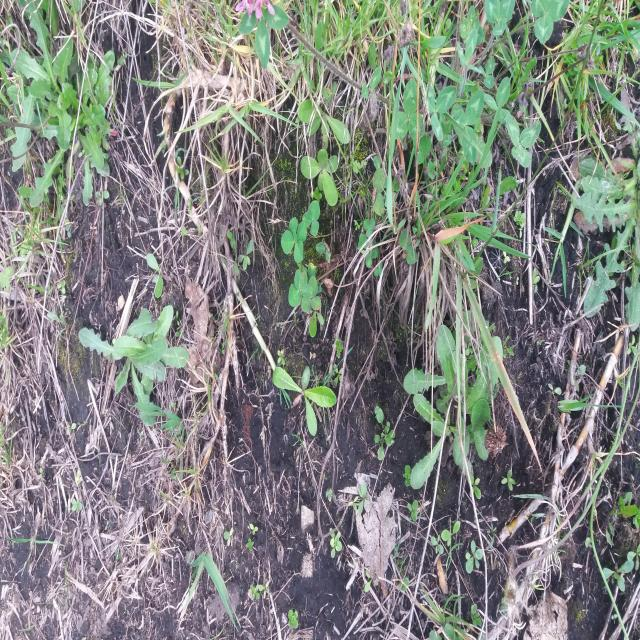Four Leaf Clover: (281, 217, 307, 263), (262, 253, 288, 296)
